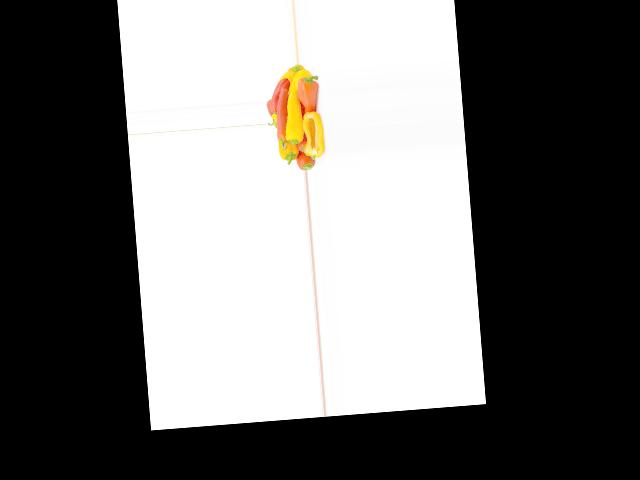bell_pepper: (291, 139, 315, 171)
